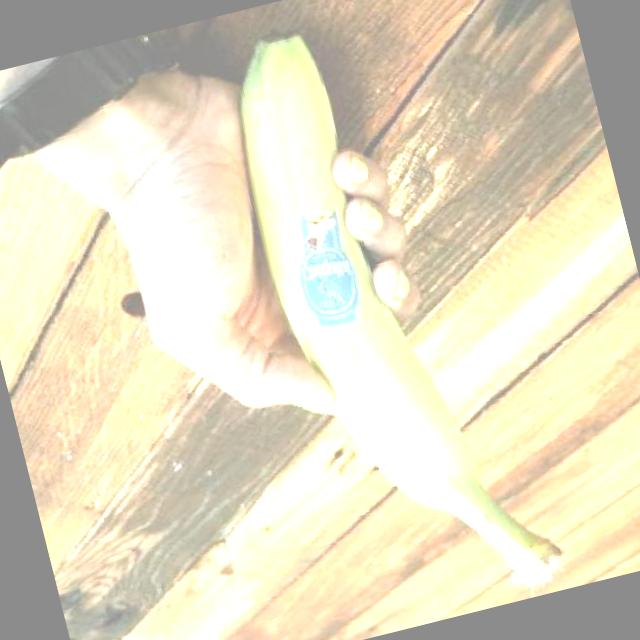Banana: (211, 0, 571, 633)
